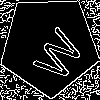W: (24, 20, 86, 85)
